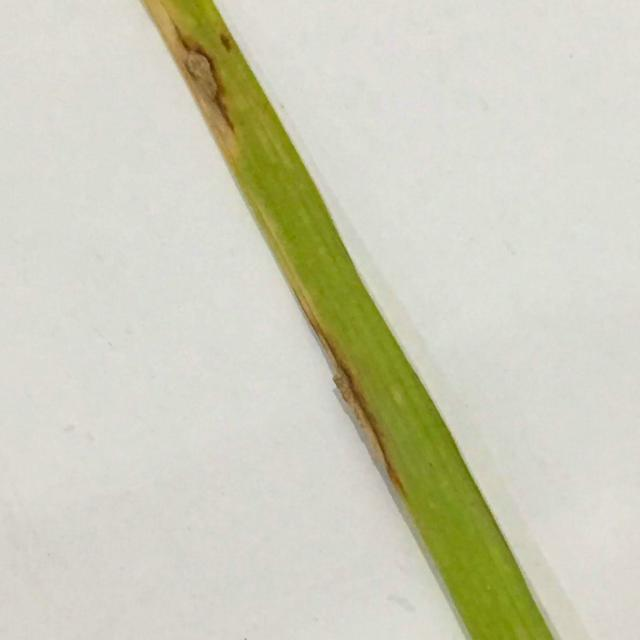Blast: (188, 47, 246, 120), (364, 419, 392, 450), (342, 381, 368, 413), (388, 457, 408, 486)
